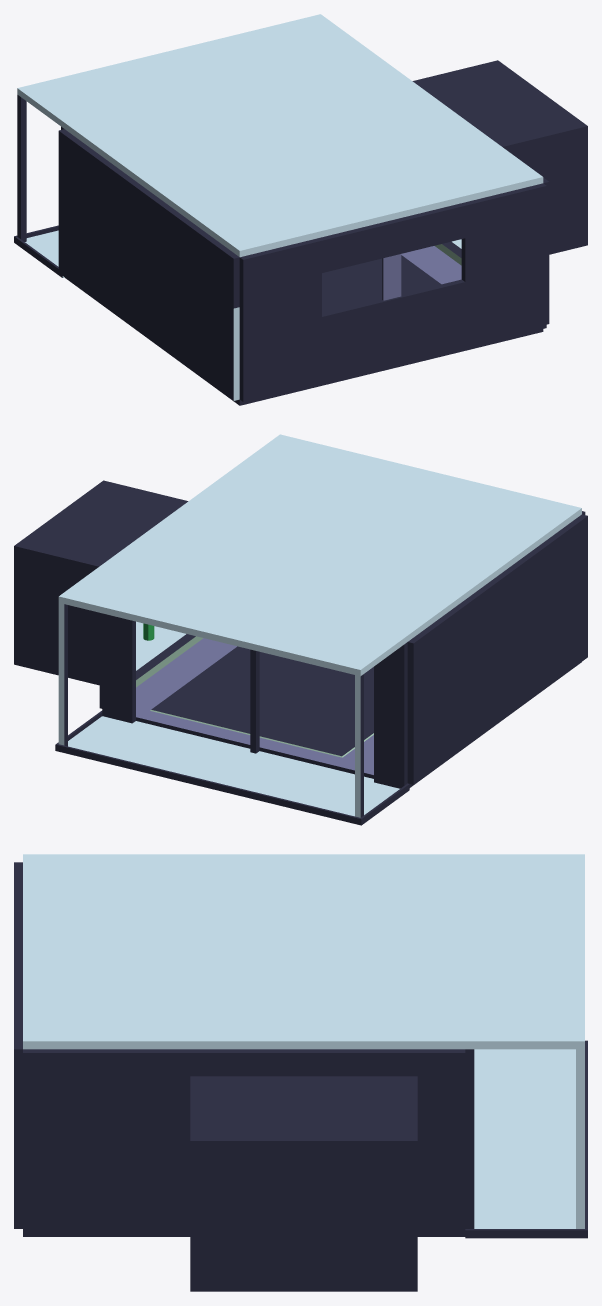
Rendered from ROOMSTRUCTURE.glb.
The picture shows the model from 3 angles, top to bottom: view 1: azimuth 30°, elevation 25°; view 2: azimuth 150°, elevation 25°; view 3: azimuth 270°, elevation 25°; orthographic projection. The views are drawn at different scales.
Parts seen in each view (by area): view 1: ROOF (2), WALL SCREEN, WALL SHELVING, WALL DOOR, FLOOR; view 2: ROOF (2), FLOOR, WALL SHELVING, WALL DOOR, WALL WINDOW; view 3: ROOF (2), WALL DOOR, FLOOR, WALL SCREEN, WALL WINDOW.
Part boxes in pixels (box(x1,y1,x2,y2)): ROOF (2): box(17, 14, 543, 257); WALL SCREEN: box(239, 183, 546, 401); WALL SHELVING: box(58, 129, 239, 400); WALL DOOR: box(412, 60, 587, 324); FLOOR: box(14, 225, 543, 405); ROOF (2): box(58, 434, 581, 817); FLOOR: box(55, 638, 581, 825); WALL SHELVING: box(407, 514, 587, 784); WALL DOOR: box(14, 480, 203, 708); WALL WINDOW: box(102, 613, 407, 788); ROOF (2): box(23, 854, 584, 1228); WALL DOOR: box(23, 1049, 465, 1291); FLOOR: box(23, 1040, 587, 1238); WALL SCREEN: box(14, 862, 22, 1228); WALL WINDOW: box(465, 1049, 474, 1228).
Bounding box in the file's own units: 13.86 × 4.88 × 12.97.
